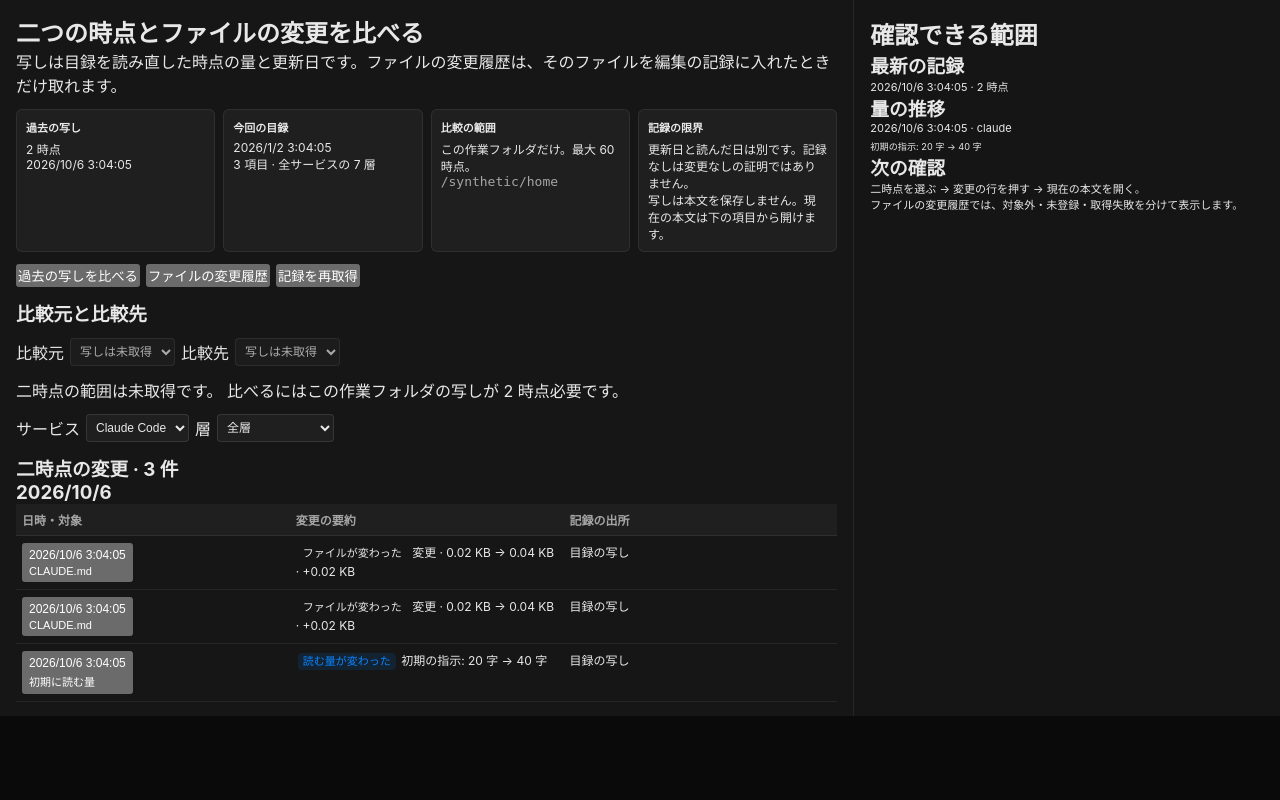
agent design history › loads Git only for a chosen item and diff only for a chosen commit
The image size is (1280, 800).
Click the button "ファイルの変更履歴" at (208, 276), box left=146, top=264, right=270, bottom=287
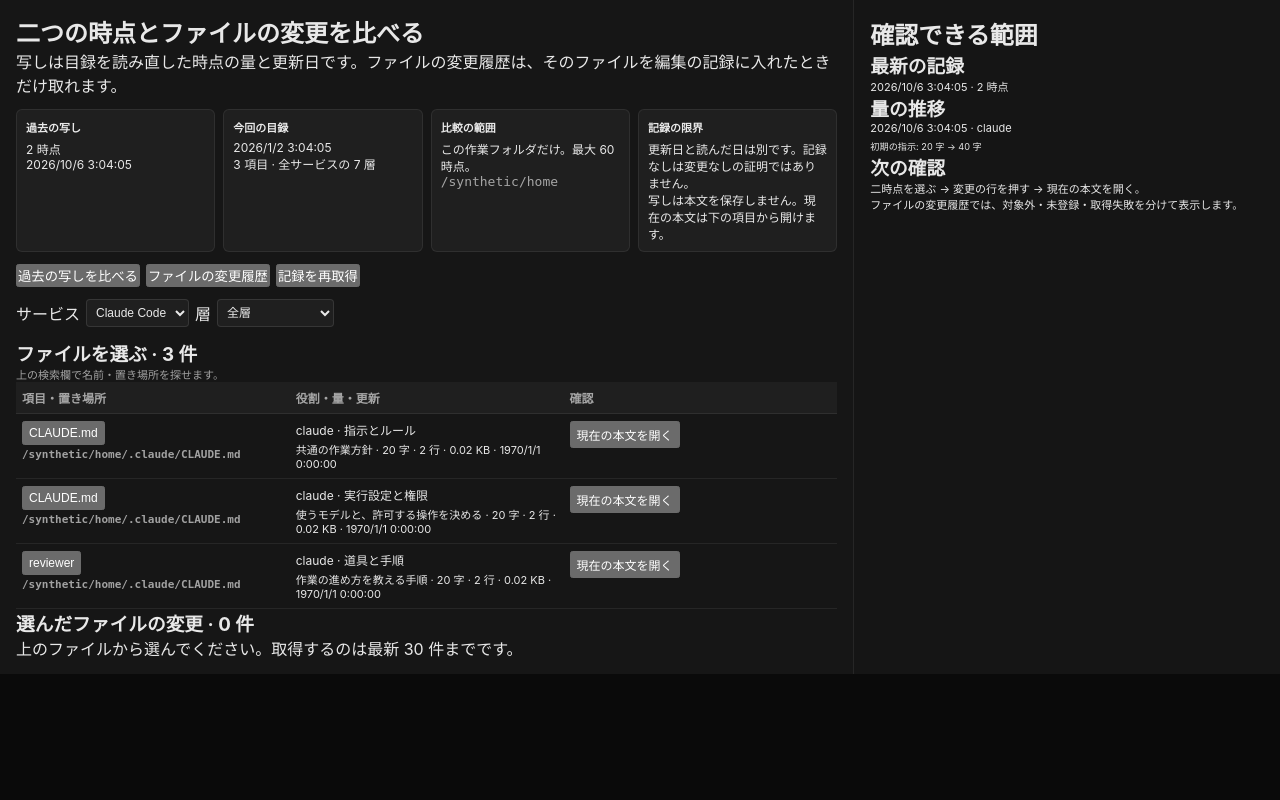
Click the button "CLAUDE.md" in the row of "指示とルール" at (63, 433), box left=22, top=421, right=105, bottom=445
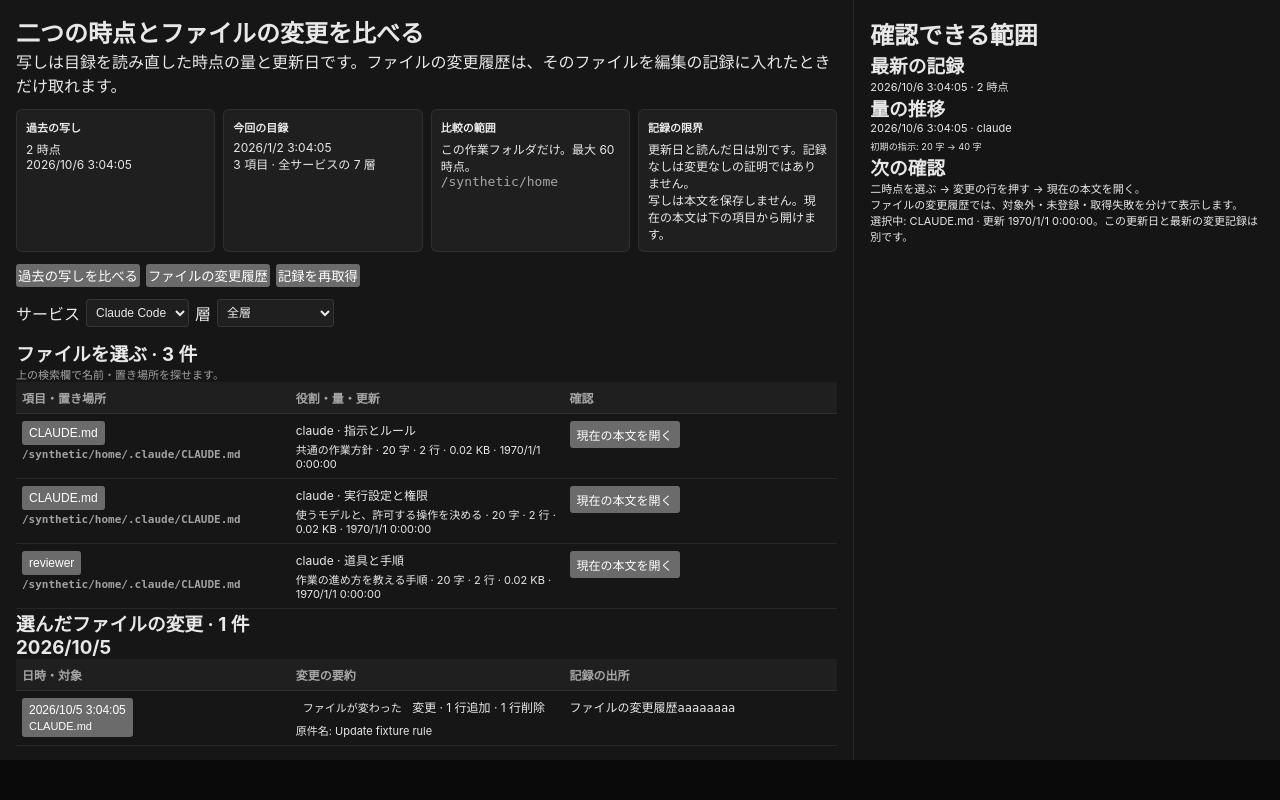
Click the button "2026/10/5 3:04:05 CLAUDE.md" at (77, 718), box left=22, top=698, right=133, bottom=737
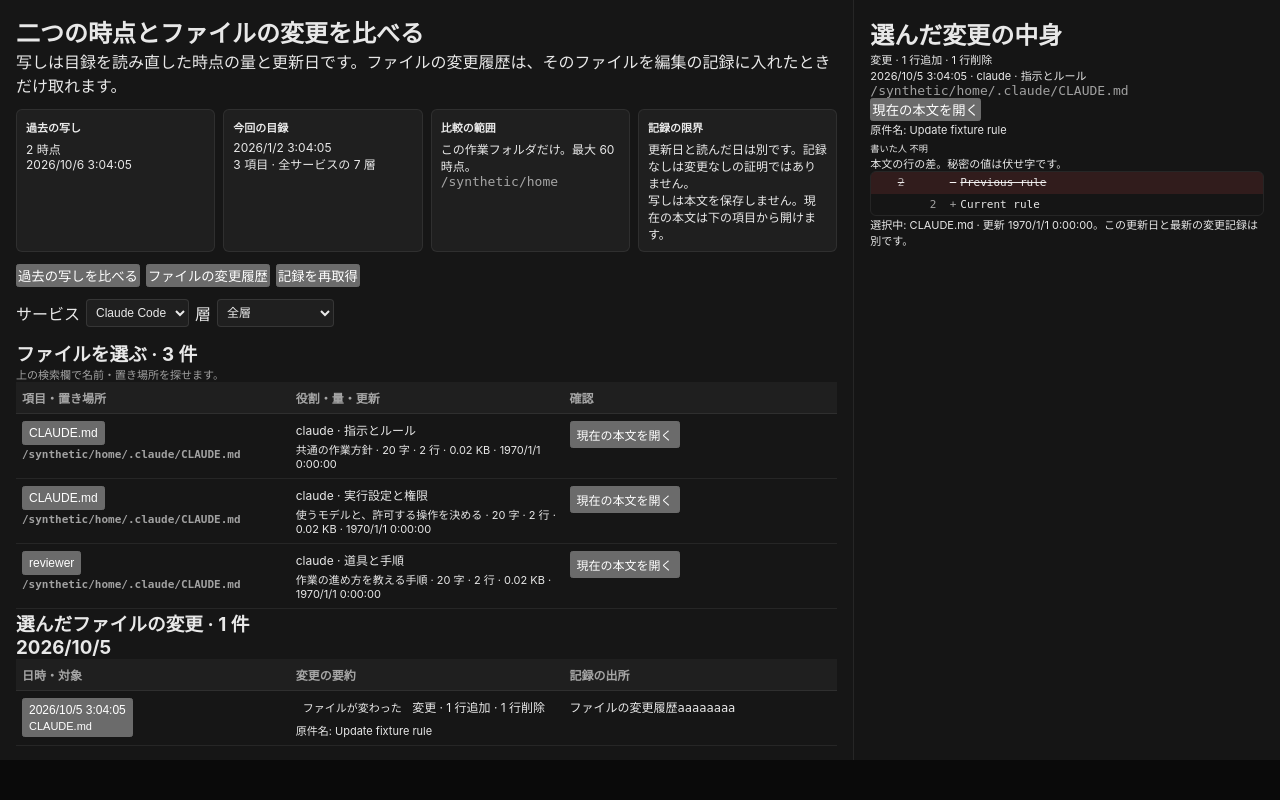
Now the element with class "deleted" shows "2", box left=898, top=176, right=904, bottom=189
Now the text "Current rule" is shown, box left=960, top=198, right=1040, bottom=211
Now the element with class "ad-detail" shows "不明", box left=910, top=143, right=928, bottom=154
